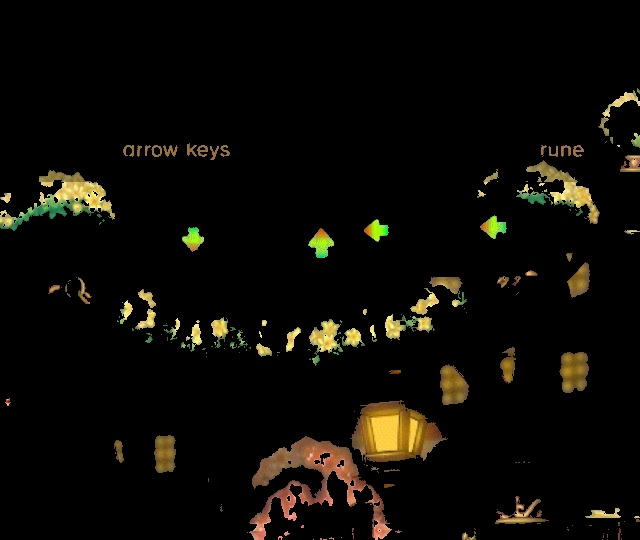down: (174, 222, 214, 258)
left: (472, 211, 517, 249), (356, 214, 398, 249)
up: (300, 222, 342, 264)
